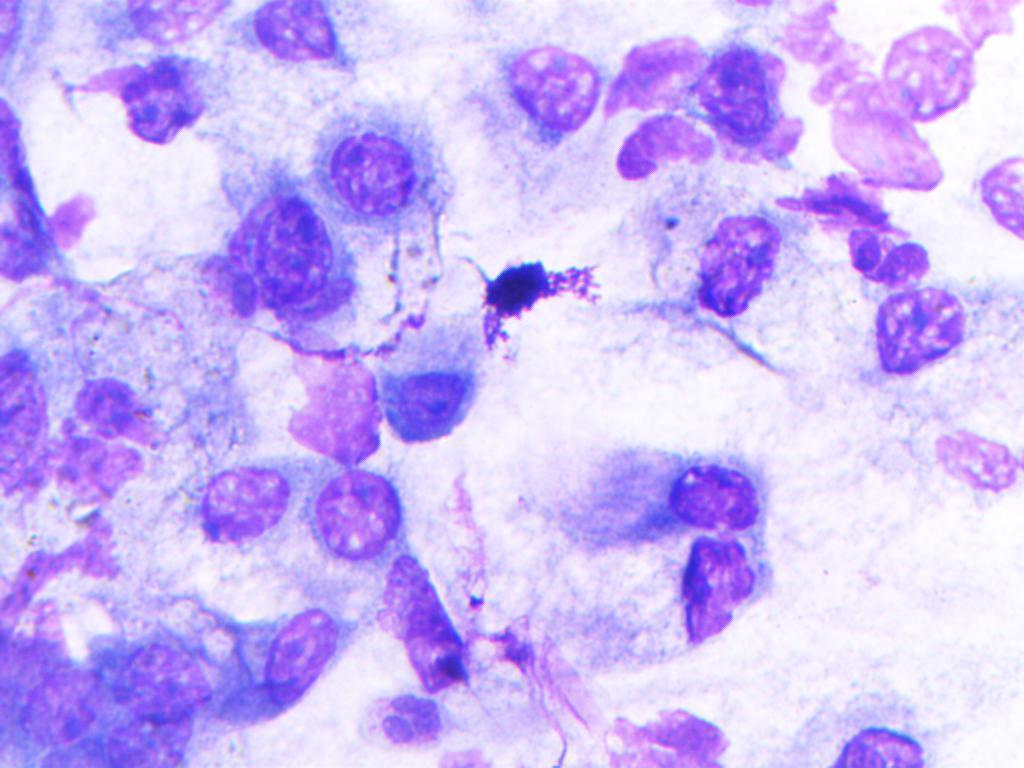artifact: (0, 604, 223, 768), (0, 352, 158, 534), (811, 68, 953, 196), (1, 86, 77, 298), (273, 331, 391, 466), (884, 11, 984, 140), (472, 250, 569, 333)
epithelial: (838, 281, 1023, 389), (220, 185, 333, 332), (83, 48, 227, 159), (682, 202, 794, 342), (244, 587, 356, 727), (161, 457, 294, 573), (308, 464, 427, 590), (321, 112, 458, 217), (691, 42, 808, 161), (493, 34, 601, 146), (383, 351, 490, 460), (234, 2, 375, 82), (909, 417, 1019, 509), (611, 110, 715, 183), (964, 148, 1024, 252)
goblet_cell: (581, 534, 794, 655), (570, 454, 773, 548), (794, 700, 944, 768)
neutrophil: (831, 223, 937, 290), (375, 681, 449, 751)
